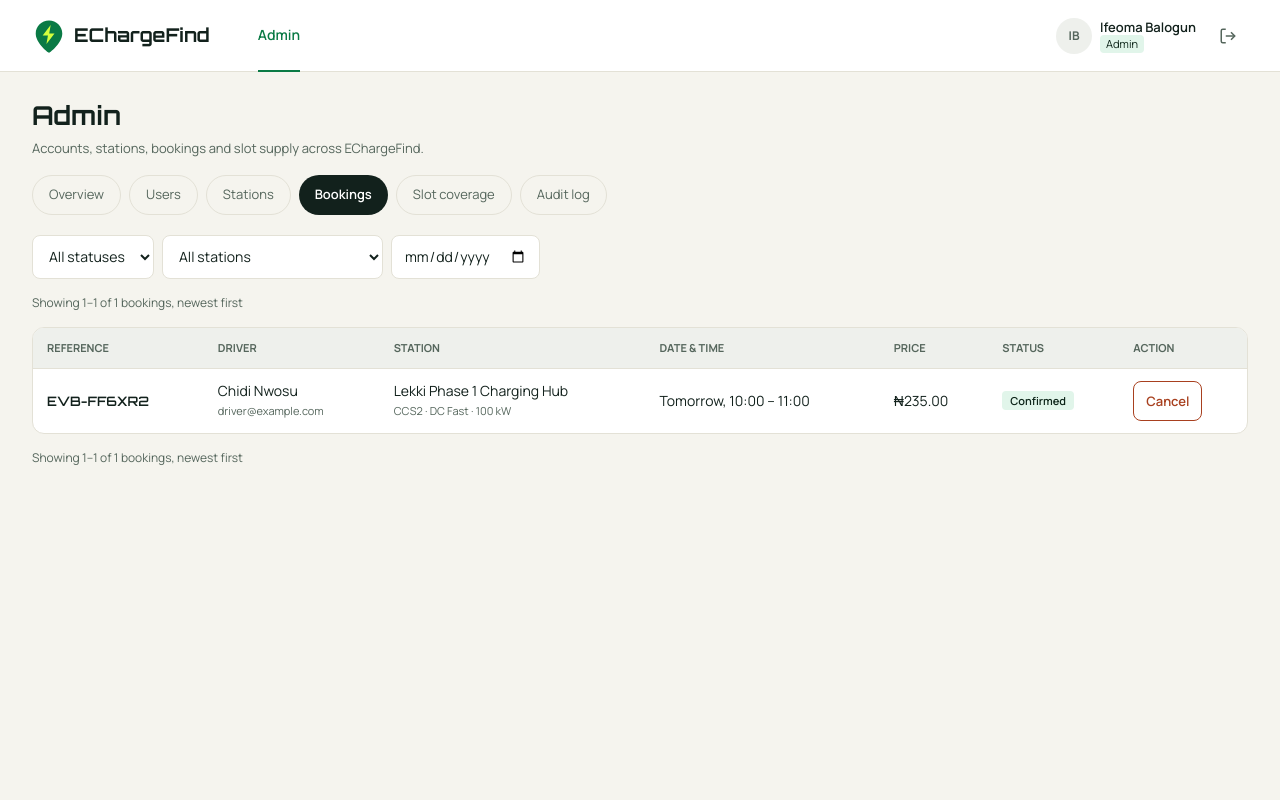
Test: admin bookings › closes the dialog on Escape without cancelling
This screenshot has width=1280, height=800.
Expected: the text "EVB-FF6XR2" is shown, [47,392,149,408]
Click the button with aria-label "Cancel booking EVB-FF6XR2" at x=1168, y=400, box [1133,380,1202,420]
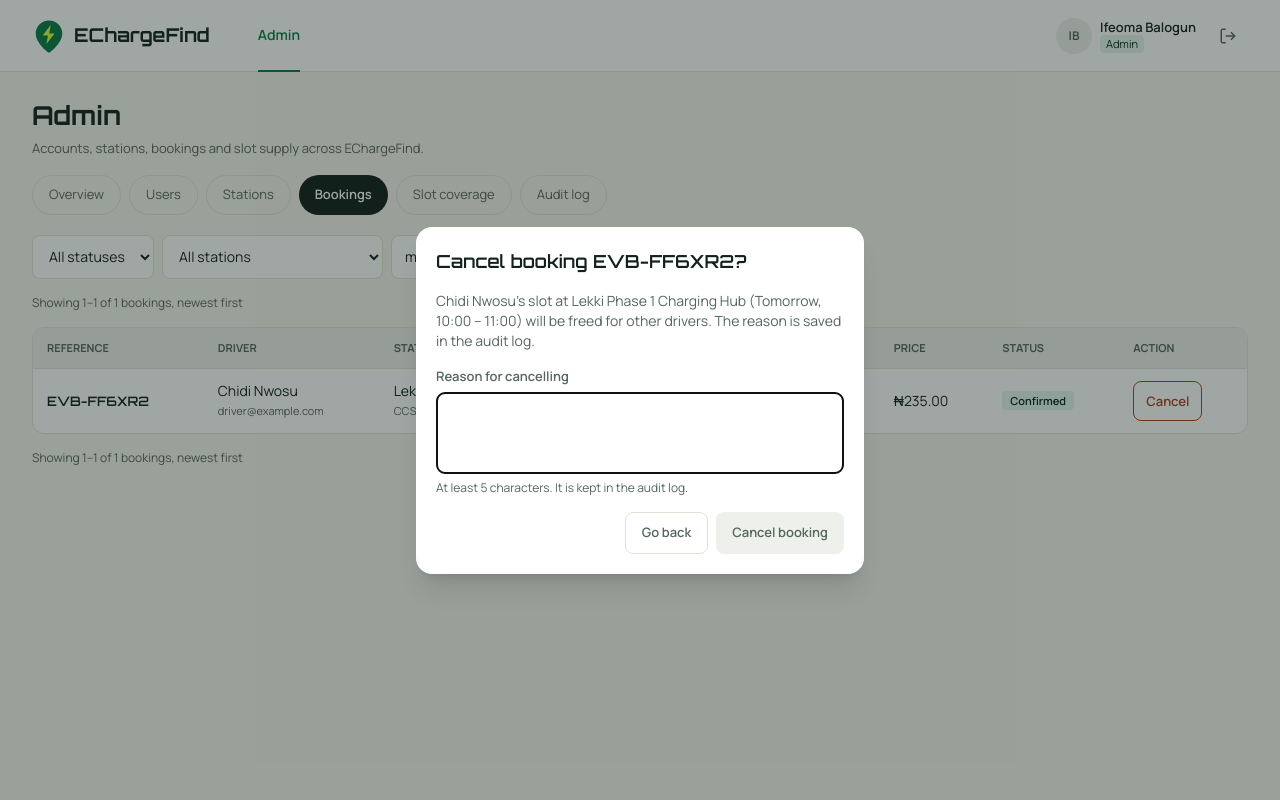
Expected: the dialog is shown, [416,226,864,574]
Press Escape
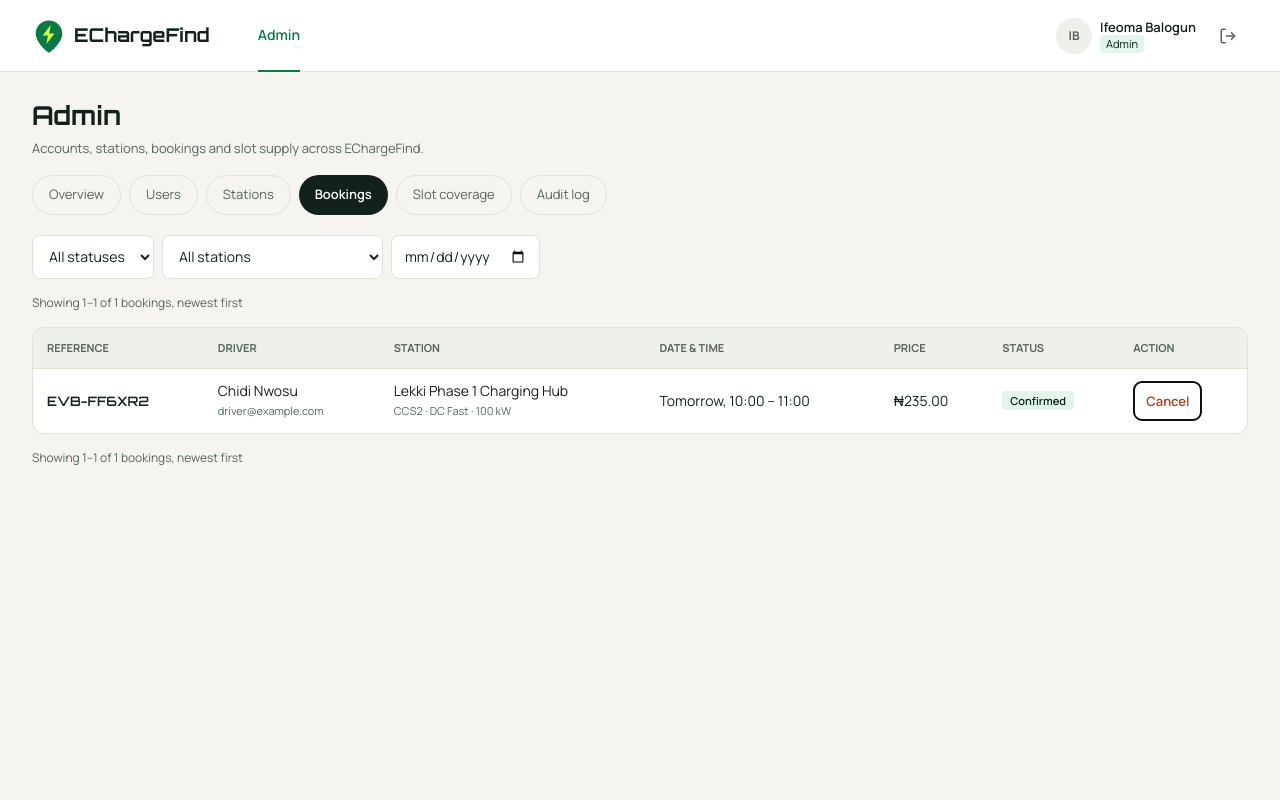
Expected: the text "Confirmed" is shown, [1002,391,1074,410]
Expected: the dialog is gone
